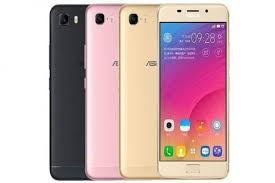asus: (155, 2, 231, 181)
